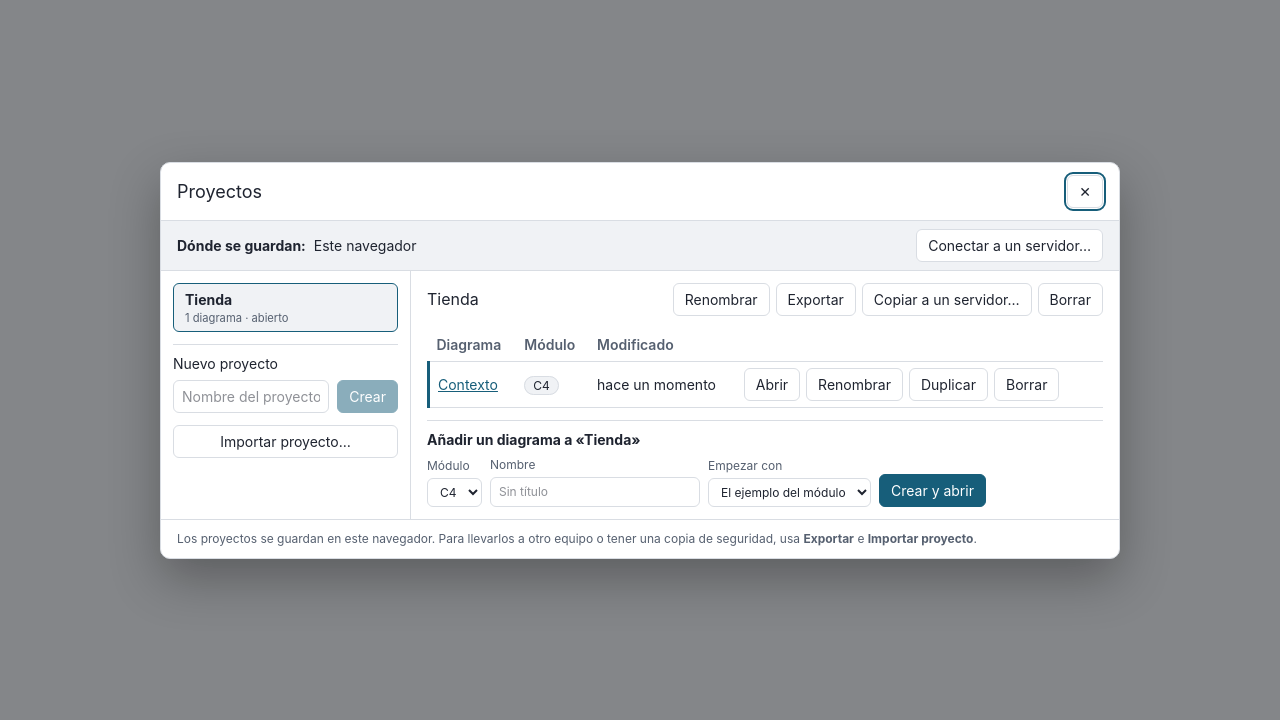
gestor de proyectos con el almacén en la nube › con los proyectos en este navegador › conectar el servidor desde ahí copia el proyecto con su documento, muestra el resultado y no cambia de almacén
Click the button "Copiar a un servidor…". click: (947, 299)
box: [862,282,1032,316]
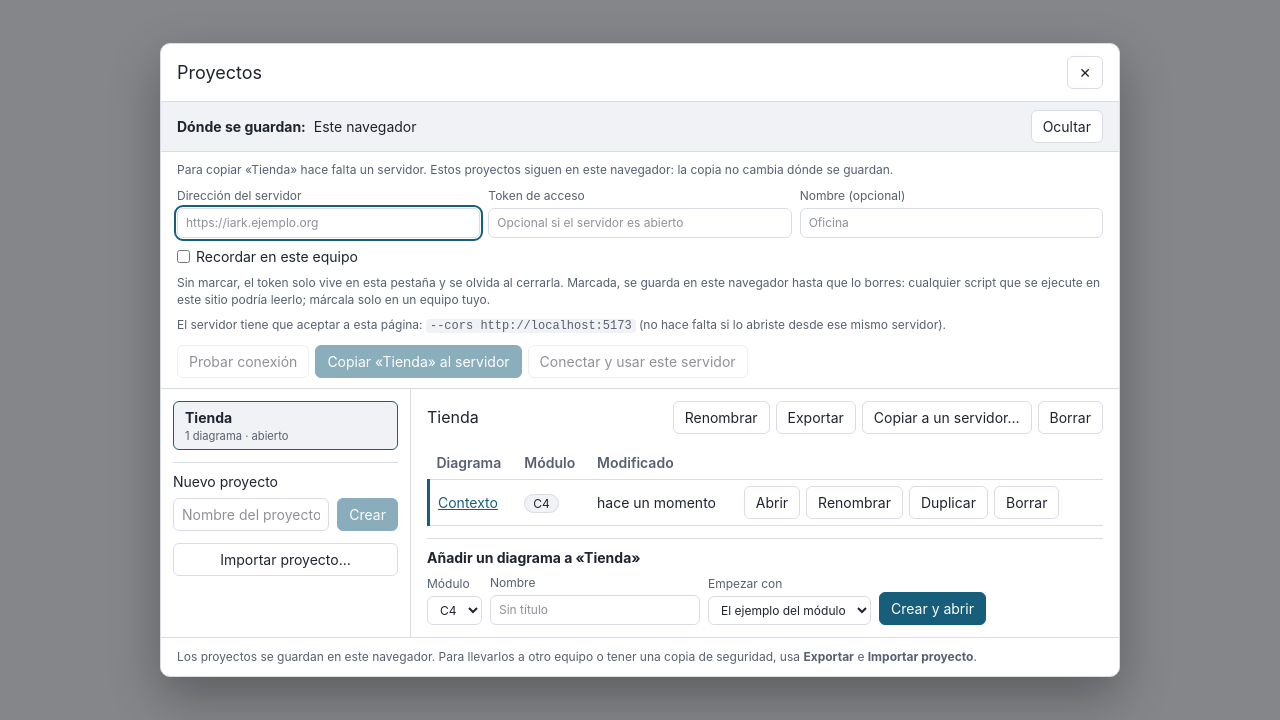
Type "http://localhost:8787" into the field labelled "Dirección del servidor". click: (329, 223)
box: [177,208,480,238]
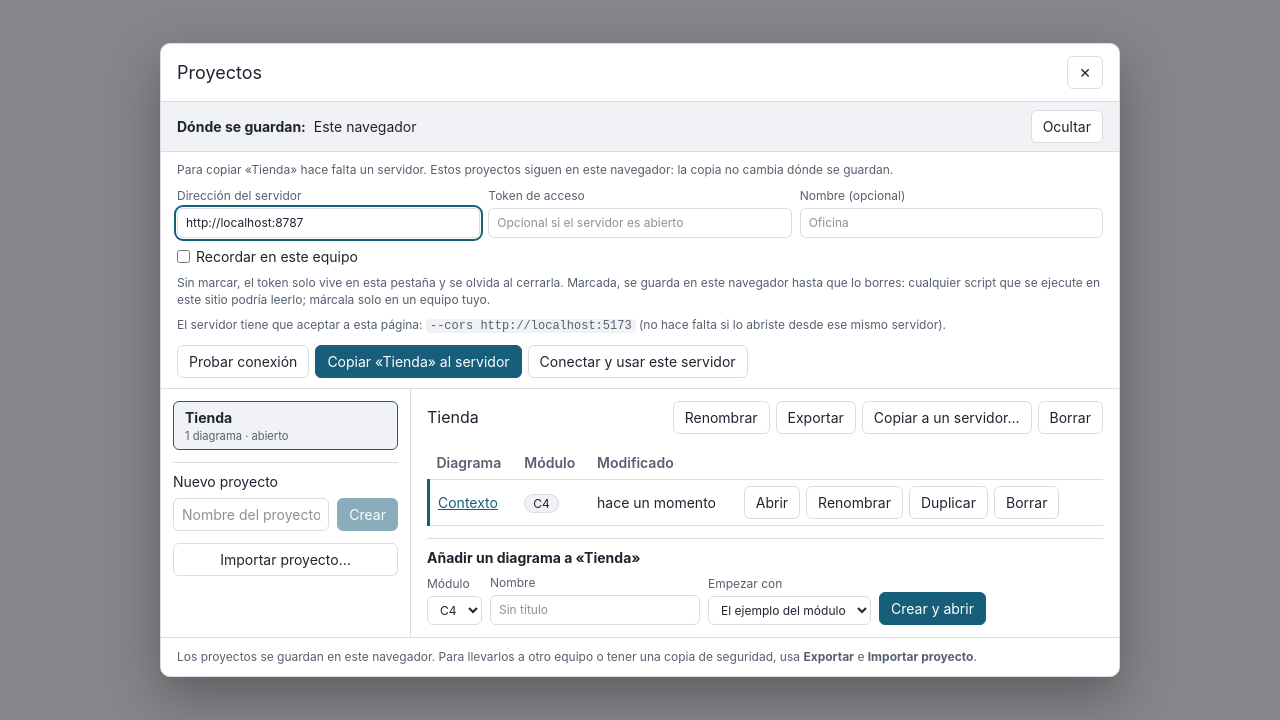
Type "secreto" into the password field labelled "Token de acceso". click: (640, 223)
box: [488,208,792,238]
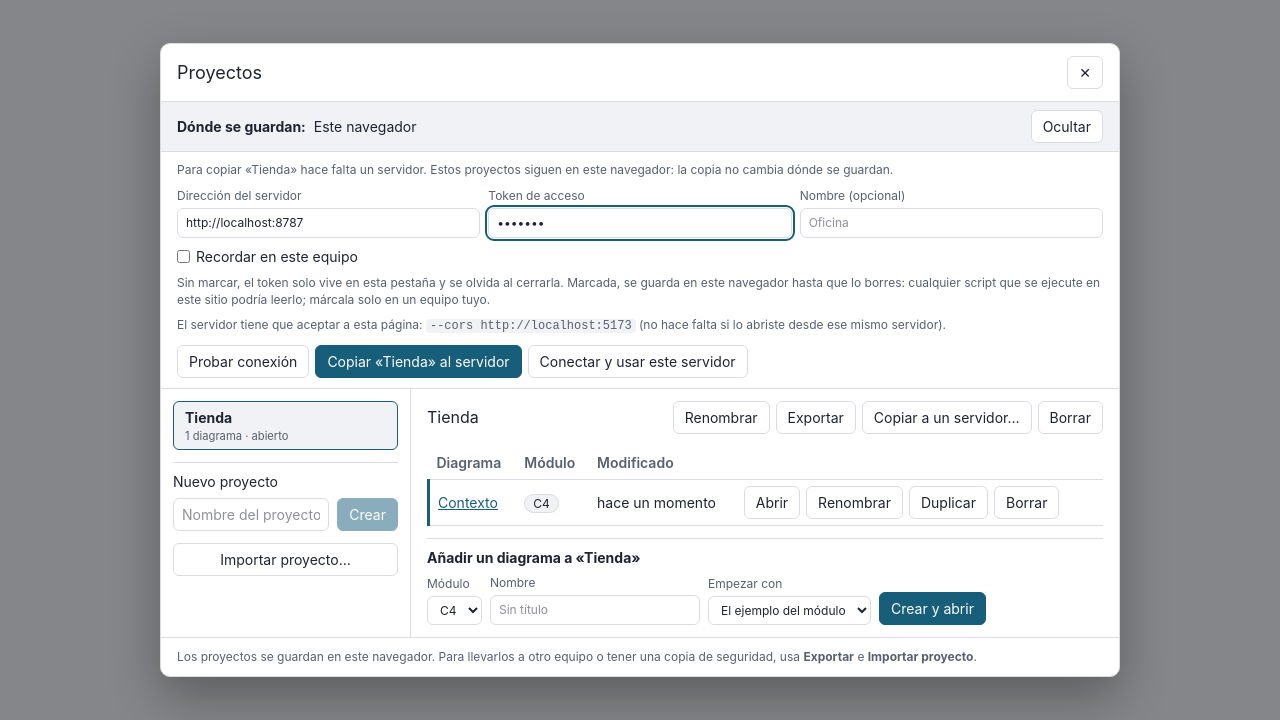
Click the button "Copiar «Tienda» al servidor". click: (418, 361)
box: [315,345,522,378]
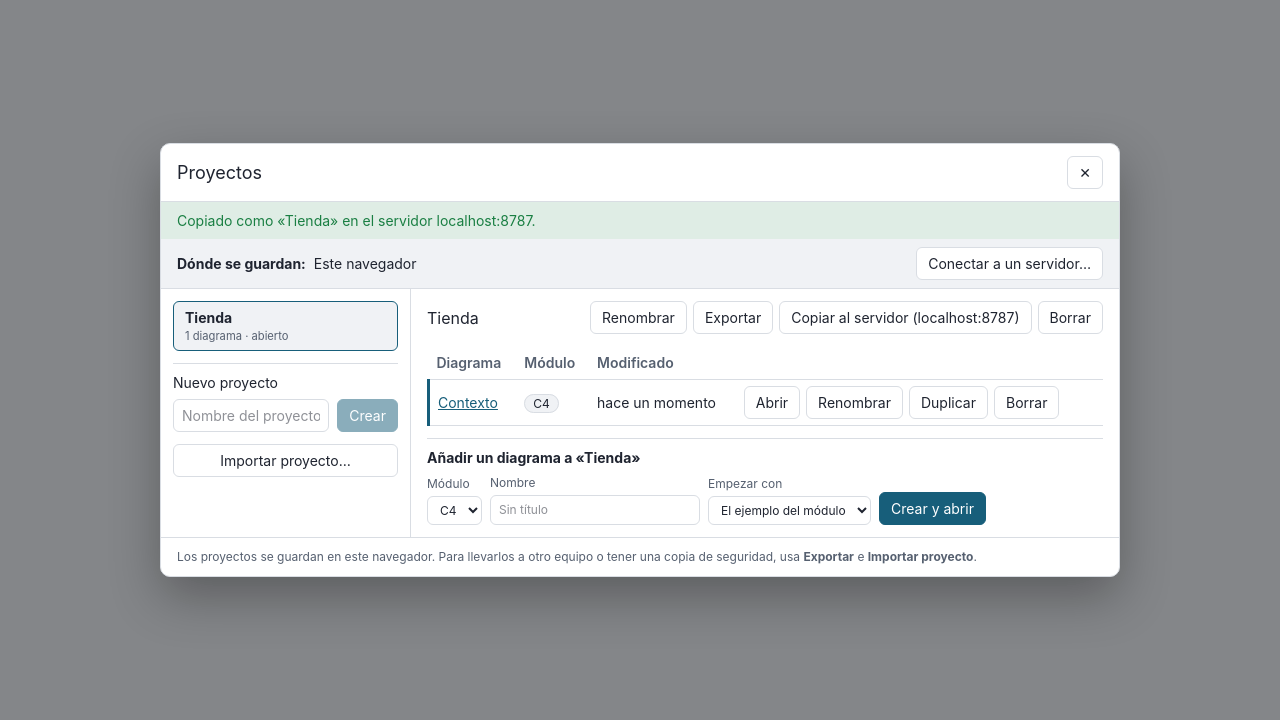
Expected: the 1st text "Tienda" is shown, [185,307,232,328]
Now the message with test id "projects-note" reads "Copiado como «Tienda» en el servidor localhost:8787.", box [177,212,536,229]
Click the button "Copiar al servidor (localhost:8787)". click: (905, 318)
box: [779,301,1032,334]
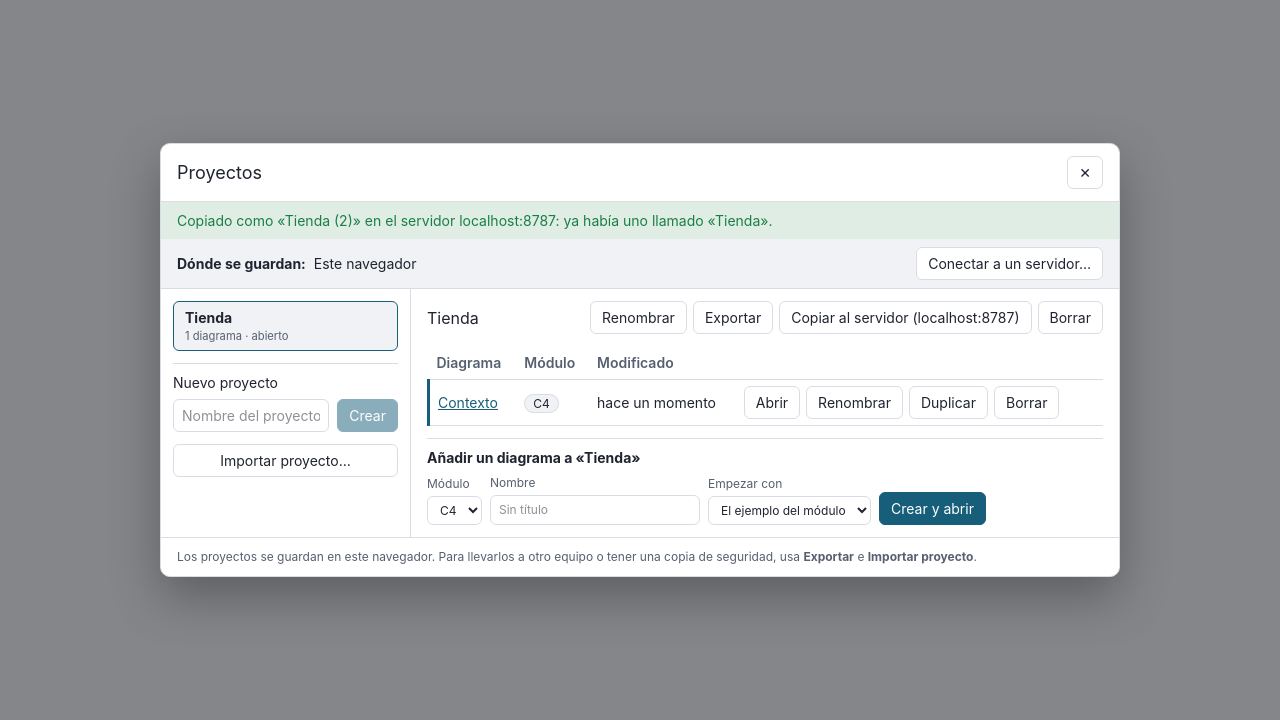
Now the message with test id "projects-note" shows "Copiado como «Tienda (2)» en el servidor localhost:8787: ya había uno llamado «Tienda».", box [177,212,772,229]
